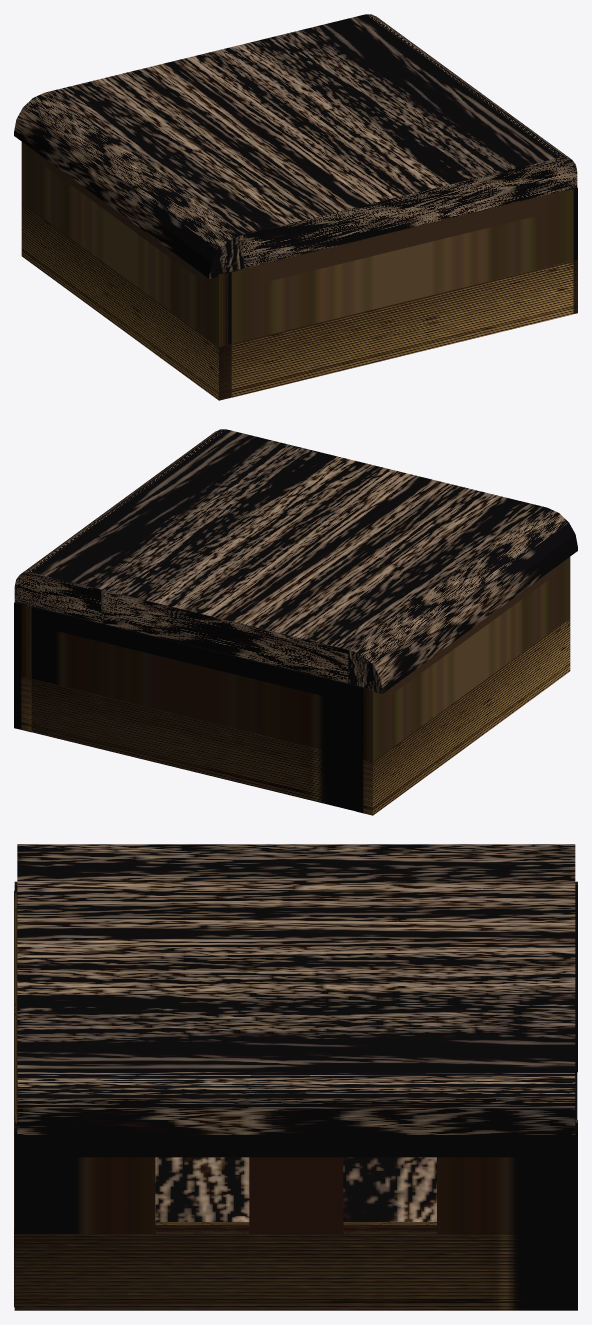
File: house.glb
The picture shows the model from 3 angles, top to bottom: view 1: azimuth 30°, elevation 25°; view 2: azimuth 150°, elevation 25°; view 3: azimuth 270°, elevation 25°; orthographic projection. The views are drawn at different scales.
Visible parts, largest first — view 1: wall.003; view 2: wall.003; view 3: wall.003.
Boxes of the visible parts, x1,y1,x2,y2 form: wall.003: [14, 14, 577, 400]; wall.003: [14, 429, 577, 815]; wall.003: [14, 844, 577, 1310].
Bounding box in the file's own units: 21.51 × 8.88 × 20.02.
Materials: 7 (6 with a texture image).
